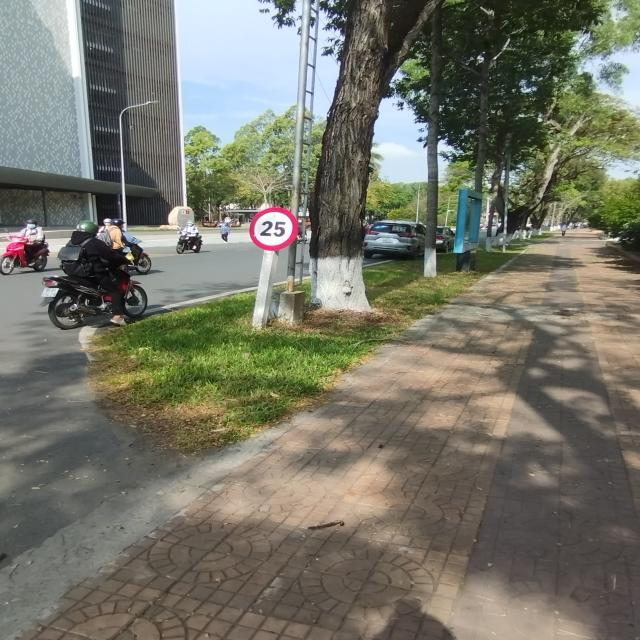Tre_Em: (249, 207, 299, 251)
